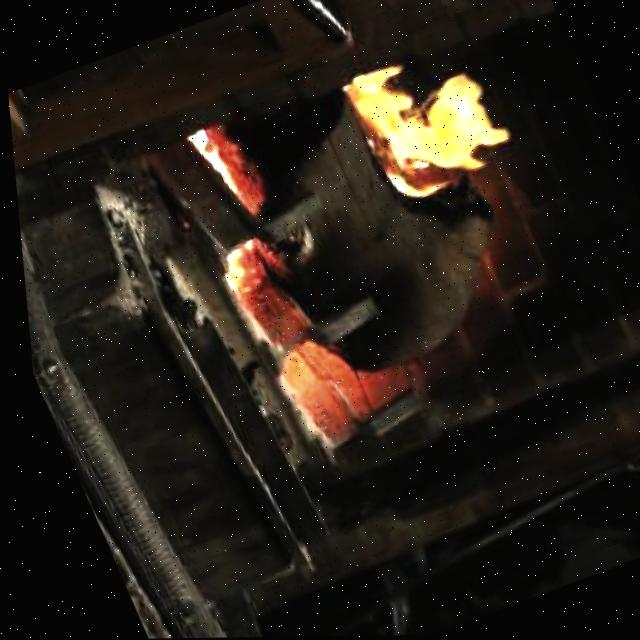Fire: (324, 26, 537, 239)
